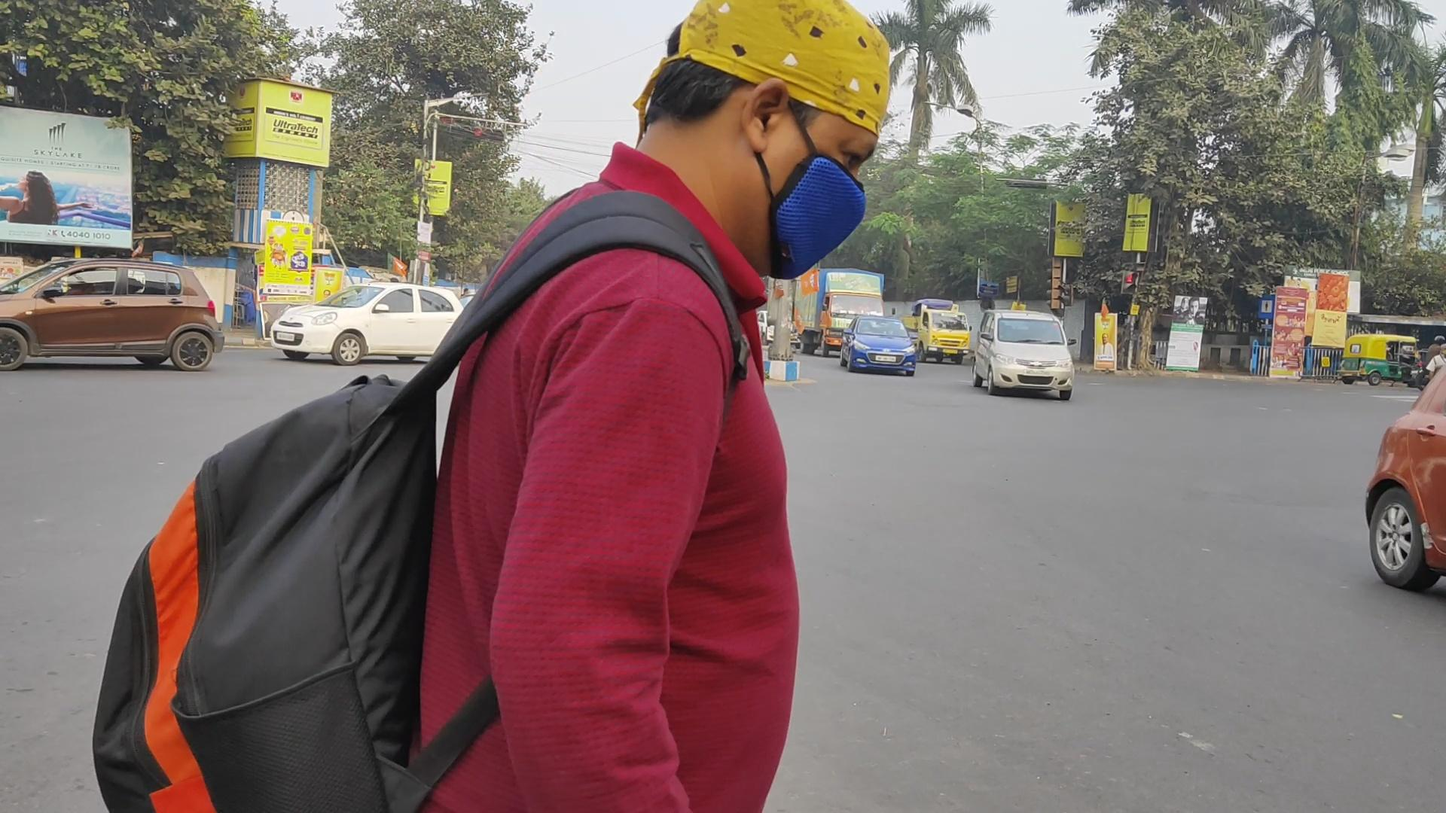Auto: (1338, 334, 1421, 388)
car: (1, 257, 224, 372), (270, 282, 470, 367), (973, 309, 1077, 400), (840, 315, 916, 378)
truck: (794, 268, 883, 356)
van: (901, 299, 972, 364)
